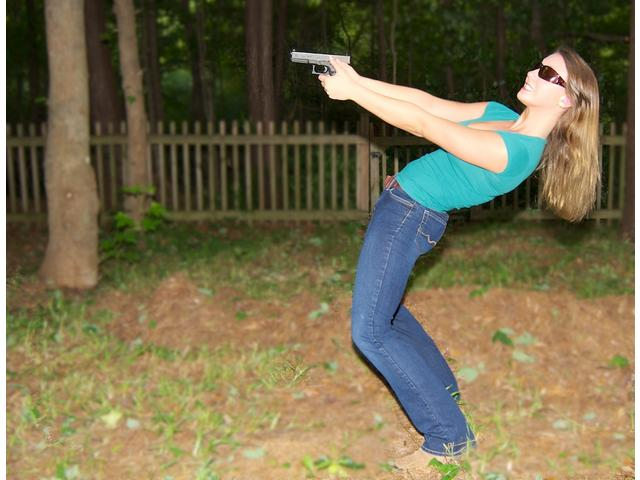pistol: (289, 49, 355, 102)
